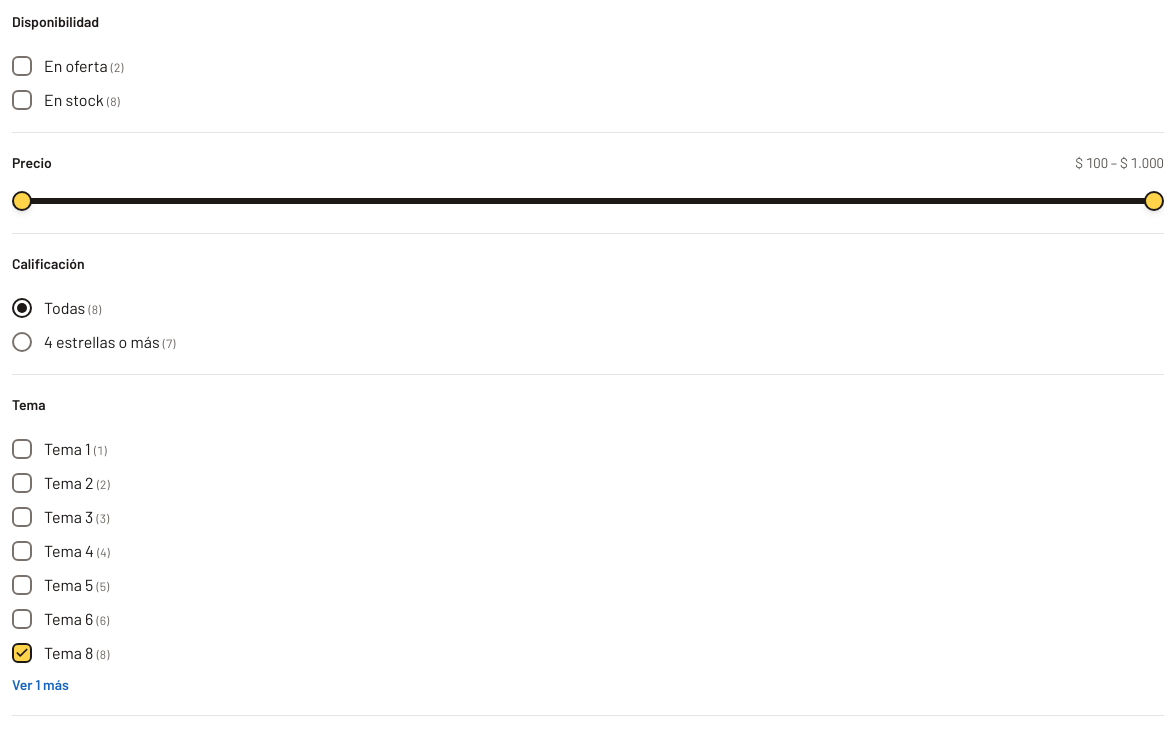
Test: ProductFilters › long lists collapse behind 'Ver N más' but keep selected values visible
Expected: the checkbox labelled "Tema 7" is not shown
Expected: the checkbox named "Tema 8" next to "Tema 8" is checked, [12,643,32,663]
Click the button "Ver 1 más".
click(40, 685)  # box [12,675,69,695]
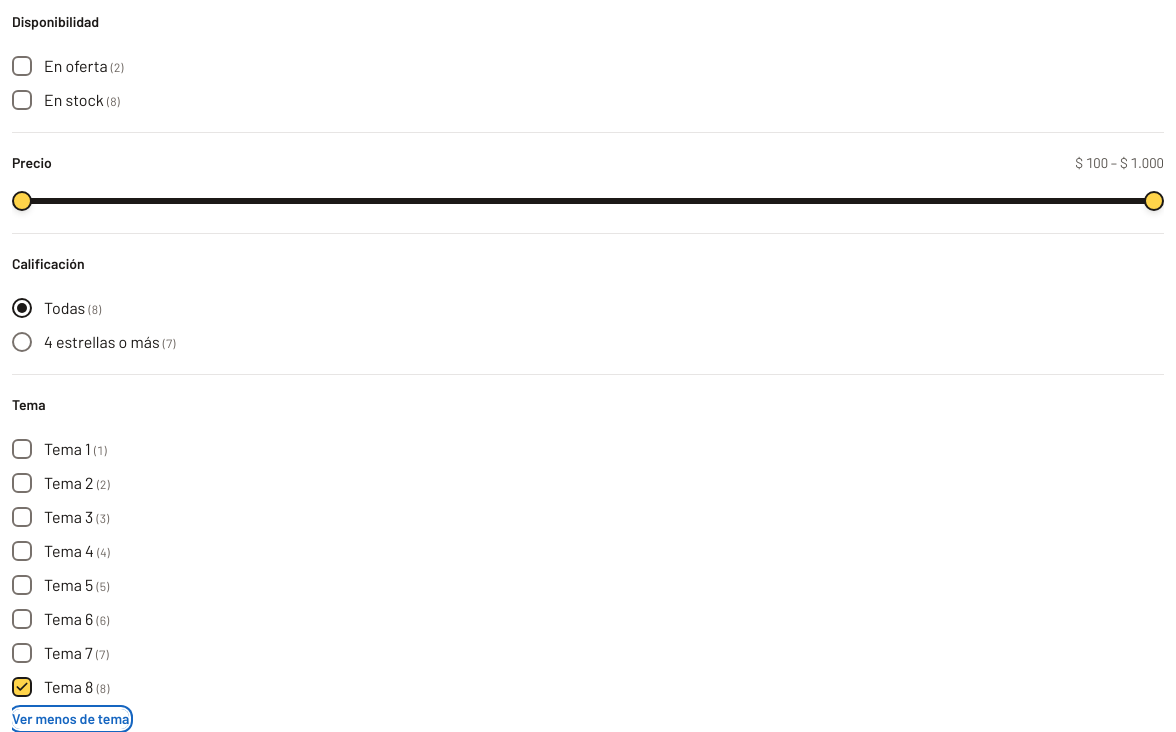
Expected: the checkbox named "Tema 7" next to "Tema 7" is shown, [12,643,32,663]
